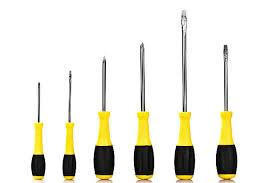screwdriver: (172, 9, 195, 180), (214, 43, 237, 179), (132, 41, 154, 180), (92, 54, 115, 179), (60, 69, 76, 180), (29, 79, 46, 180)
